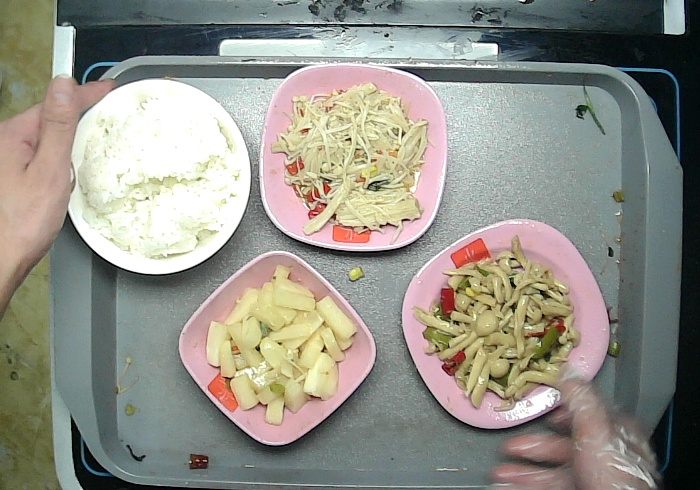SHKJ-Fan_Wan: (64, 78, 253, 277)
SHKJ-Fen_Se_Cai_Die: (256, 62, 449, 252)
SHKJ-Fen_Se_Si_Fang_Cai_Die: (396, 217, 615, 432)
SHKJ-Fen_Se_Xiao_Fang_Die: (176, 250, 378, 449)
